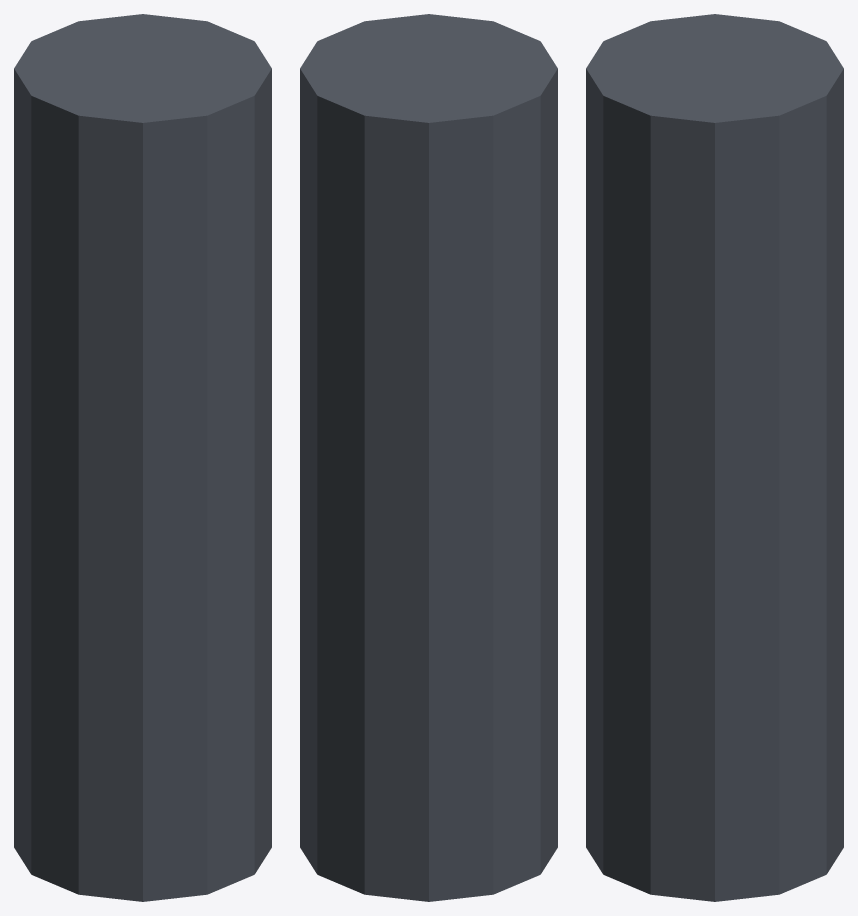
File: SM_Pipe.glb
3 views of the same model, side by side, from view 1: azimuth 30°, elevation 25°; view 2: azimuth 150°, elevation 25°; view 3: azimuth 270°, elevation 25° (orthographic).
Parts seen in each view (by area): view 1: SM_Pipe; view 2: SM_Pipe; view 3: SM_Pipe.
Part boxes in pixels (bbox=[...]): SM_Pipe: bbox=[14, 14, 271, 901]; SM_Pipe: bbox=[300, 14, 557, 901]; SM_Pipe: bbox=[586, 14, 843, 901].
Bounding box in the file's own units: 0.6 × 2 × 0.6.
Materials: 1 (1 with a texture image).
